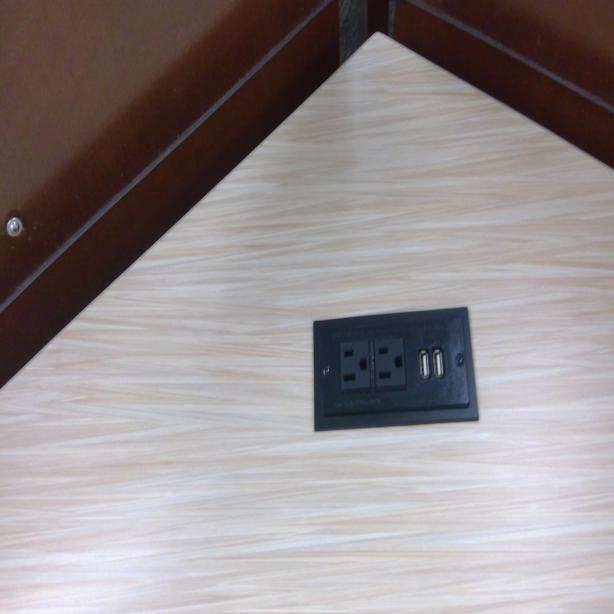typeb: (339, 337, 371, 391), (374, 342, 405, 386)
